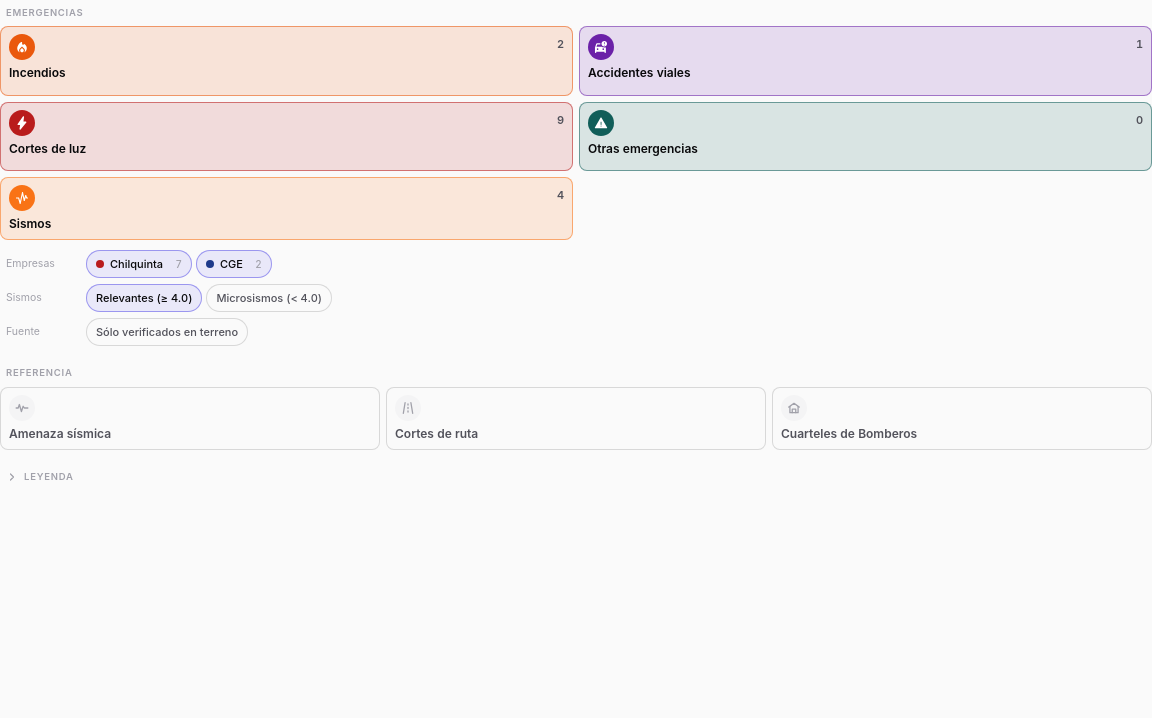
Test: grupos y leyenda › la leyenda arranca plegada y se abre
The image size is (1152, 718).
Expected: the text "el color mide evidencia" is not shown
Click the button "Leyenda". click: (49, 477)
box: [0,466,1151,488]
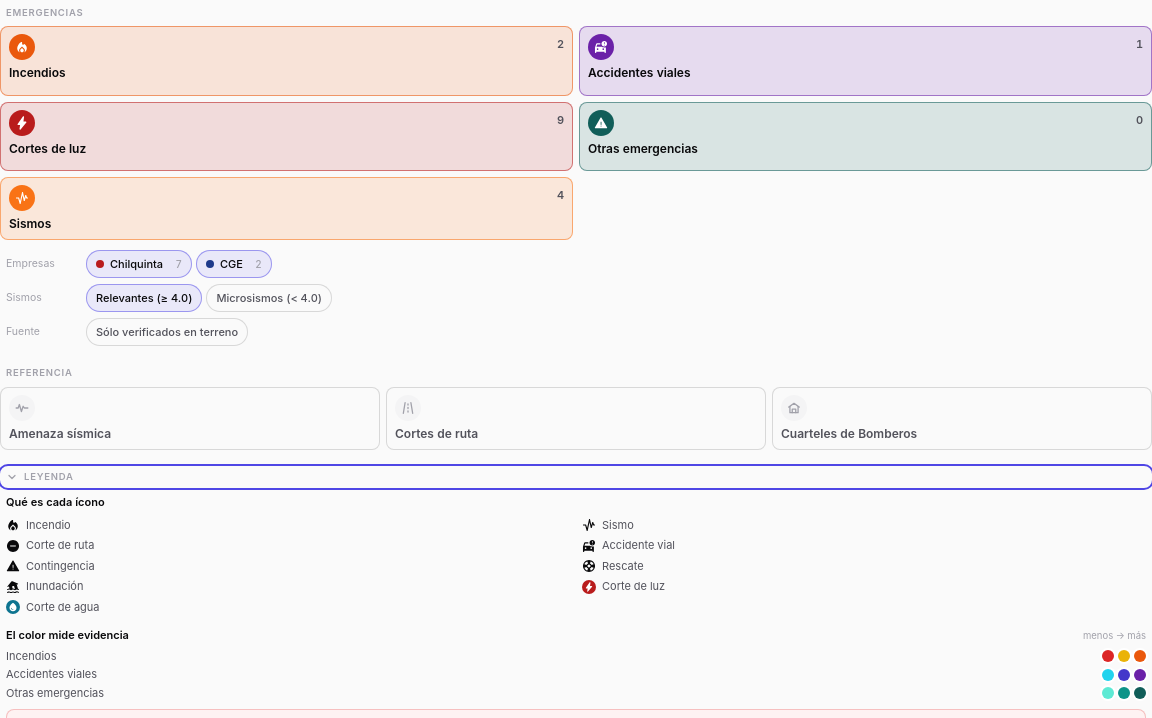
Result: the text "El color mide evidencia" is shown at [6,627,129,644]
